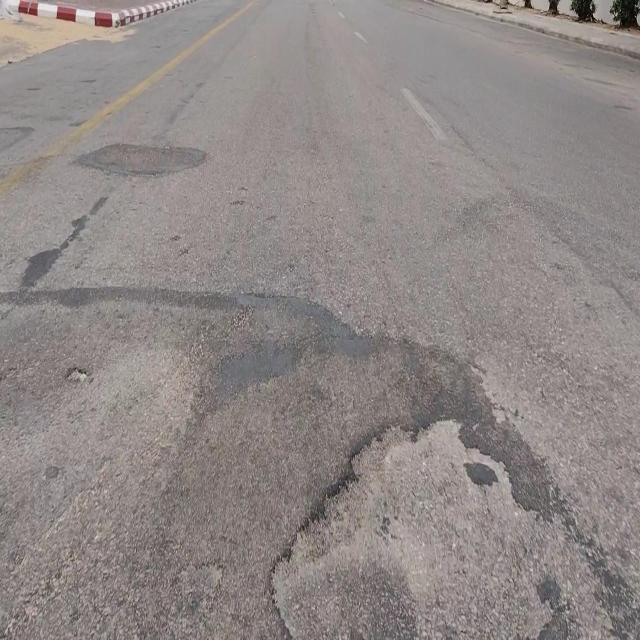Pothole: (265, 412, 615, 640)
